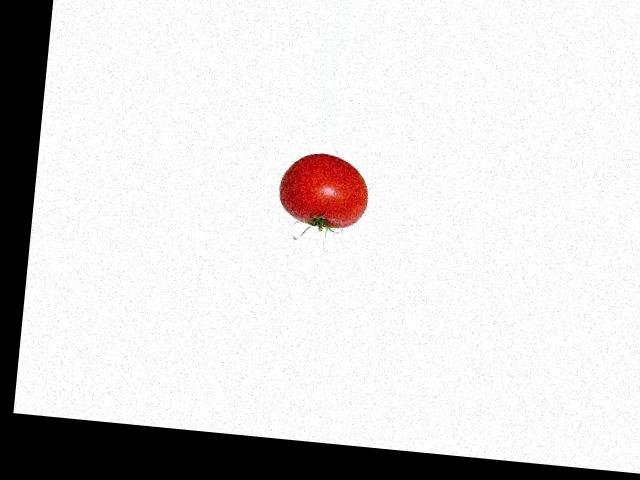tomato: (277, 150, 371, 230)
